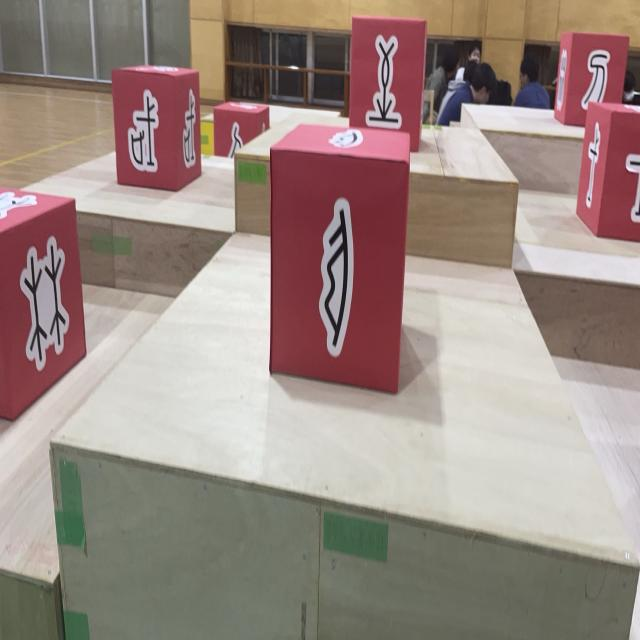10: (227, 122, 243, 158)
11: (318, 198, 354, 358), (328, 129, 364, 149)
2: (581, 50, 610, 109)
3: (556, 49, 568, 113)
5: (128, 89, 159, 173), (183, 88, 197, 168)
6: (20, 235, 70, 372), (0, 190, 37, 220)
7: (366, 34, 402, 129)
9: (586, 121, 600, 208), (626, 154, 640, 225)
fighter: (268, 123, 411, 394), (0, 185, 87, 421), (112, 65, 202, 192), (348, 16, 428, 152), (575, 101, 640, 242), (554, 30, 630, 127), (213, 102, 269, 158)
